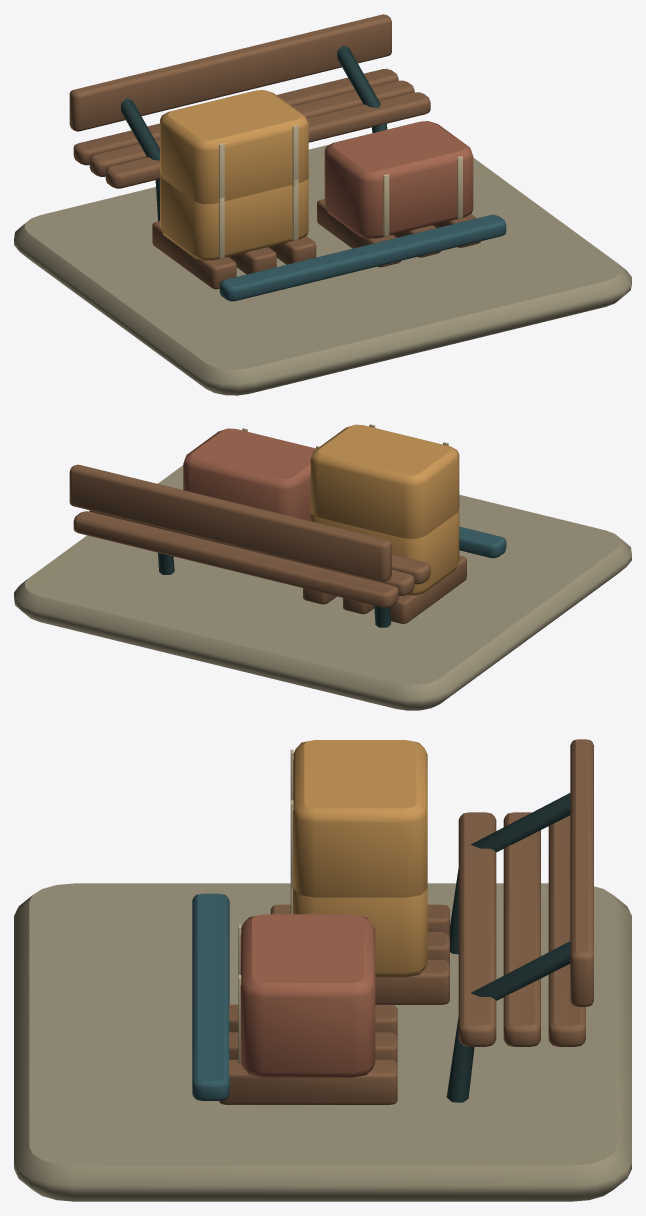
The model's file is annex_truck_2.glb.
The picture shows the model from 3 angles, top to bottom: view 1: azimuth 30°, elevation 25°; view 2: azimuth 150°, elevation 25°; view 3: azimuth 270°, elevation 25°; orthographic projection. The views are drawn at different scales.
Parts seen in each view (by area): view 1: AnnexTruck2; view 2: AnnexTruck2; view 3: AnnexTruck2.
Part boxes in pixels (x1=…): AnnexTruck2: x1=14, y1=14, x2=631, y2=395; AnnexTruck2: x1=14, y1=424, x2=631, y2=710; AnnexTruck2: x1=14, y1=739, x2=631, y2=1201.
Bounding box in the file's own units: 2.8 × 1.04 × 2.48.
